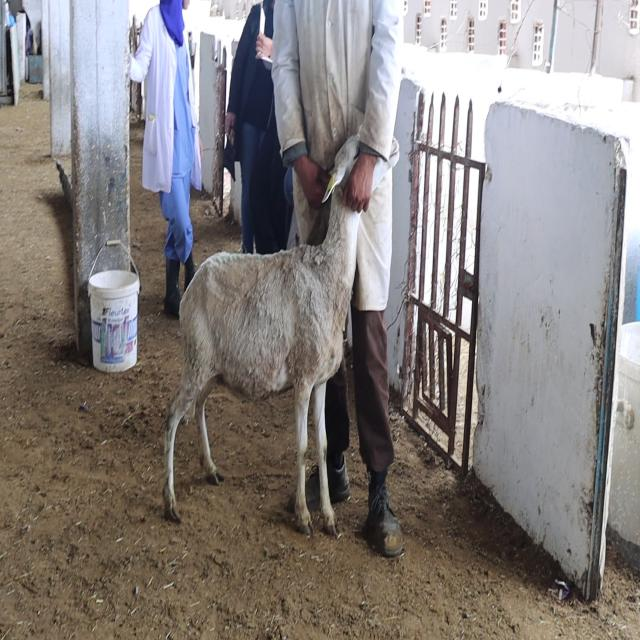Score_1: (163, 136, 359, 535)
